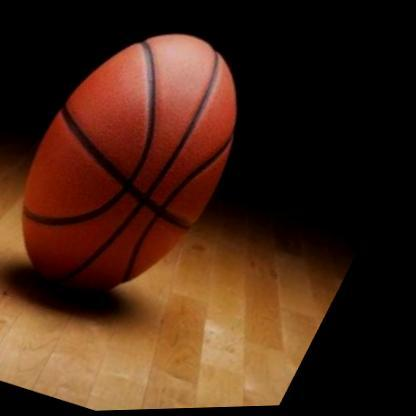basketball: (0, 2, 300, 338)
